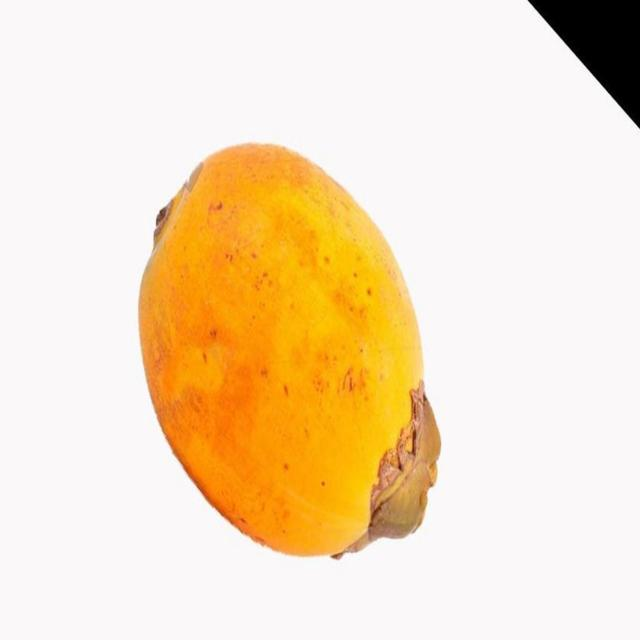good: (137, 143, 443, 561)
